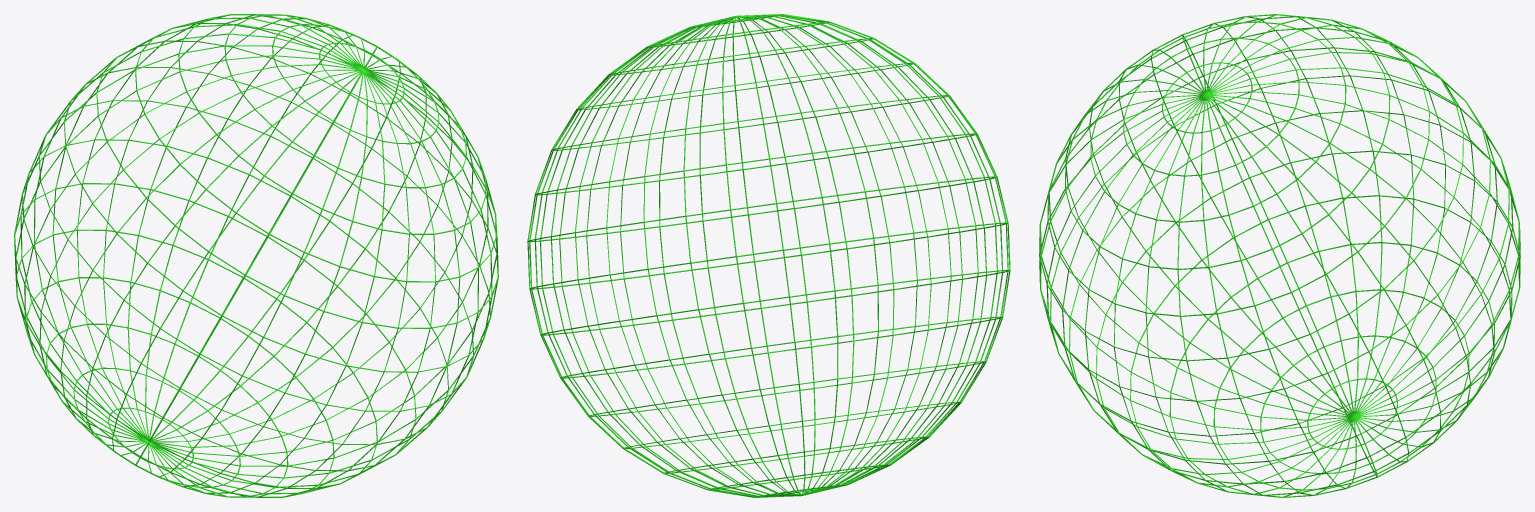
The model's file is globe.glb.
3 renders of one model, left to right at view 1: azimuth 30°, elevation 25°; view 2: azimuth 150°, elevation 25°; view 3: azimuth 270°, elevation 25°, orthographic.
Visible parts, largest first — view 1: wire_Sphere.003; view 2: wire_Sphere.003; view 3: wire_Sphere.003.
Part boxes in pixels (x1,y1,x2,y2): wire_Sphere.003: [14, 14, 498, 497]; wire_Sphere.003: [527, 14, 1010, 497]; wire_Sphere.003: [1039, 14, 1520, 497].
Size of the model in its own units: 2 by 2 by 1.99.
